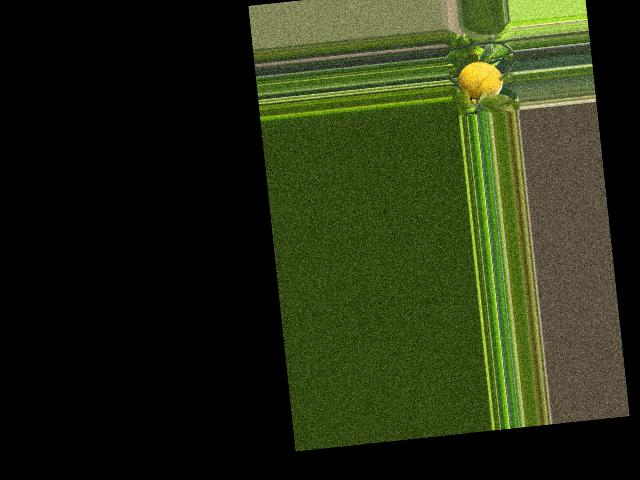lemon: (457, 56, 508, 106)
